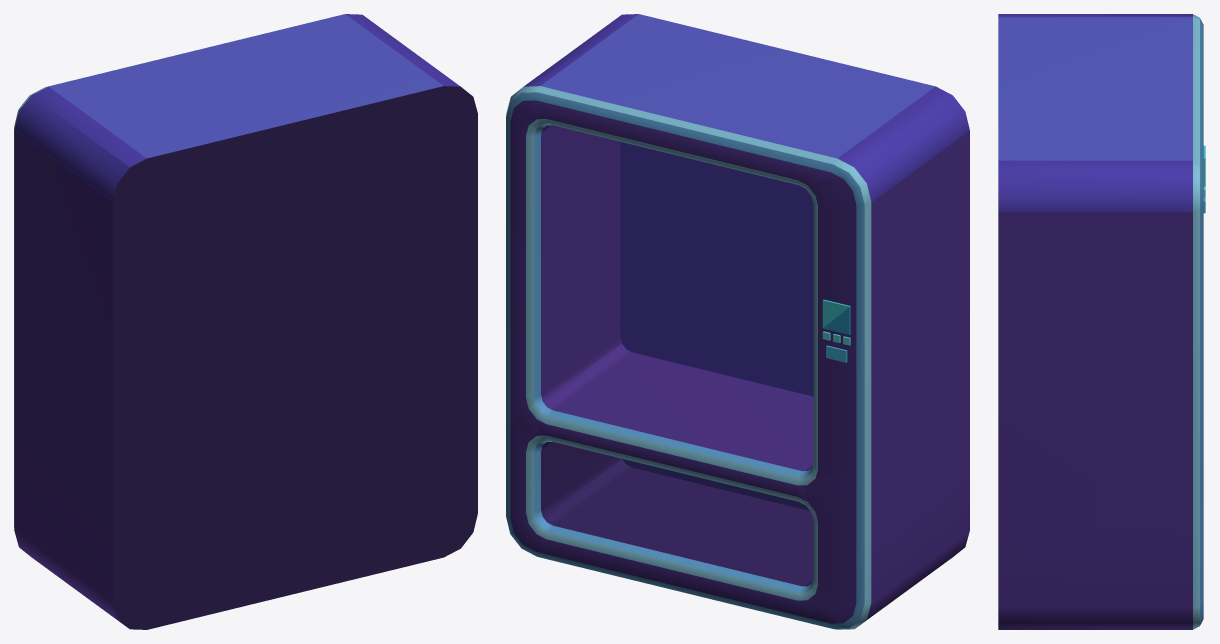
The model's file is VendingMachine.fbx.
The picture shows the model from 3 angles, left to right: view 1: azimuth 30°, elevation 25°; view 2: azimuth 150°, elevation 25°; view 3: azimuth 270°, elevation 25°; orthographic projection.
Visible parts, largest first — view 1: VendingMachine; view 2: VendingMachine; view 3: VendingMachine.
Part boxes in pixels (x1,y1,x2,y2): VendingMachine: (14, 14, 477, 629); VendingMachine: (506, 14, 969, 629); VendingMachine: (998, 14, 1205, 629).
Size of the model in its own units: 162 by 200 by 80.75.
